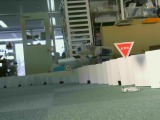stop: (113, 41, 134, 60)
